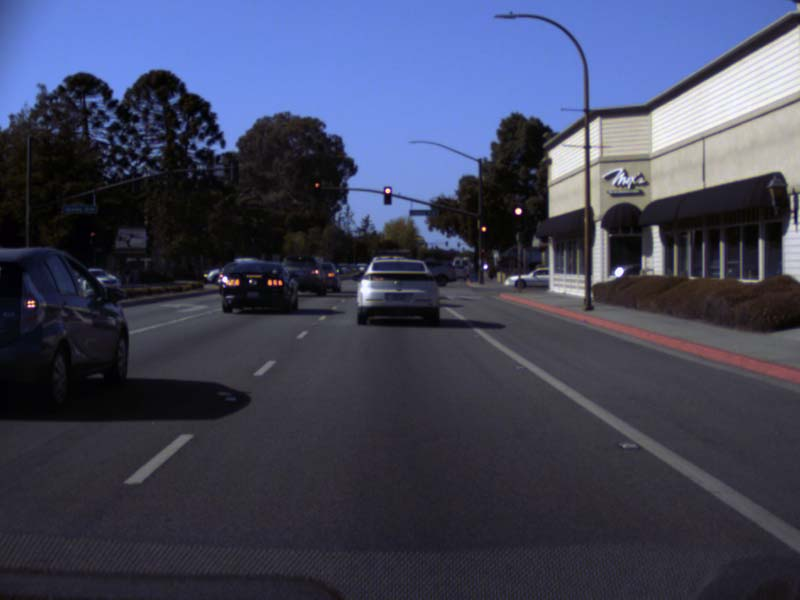Red: (513, 204, 522, 228), (313, 178, 321, 198), (383, 185, 391, 204), (480, 223, 486, 241)
